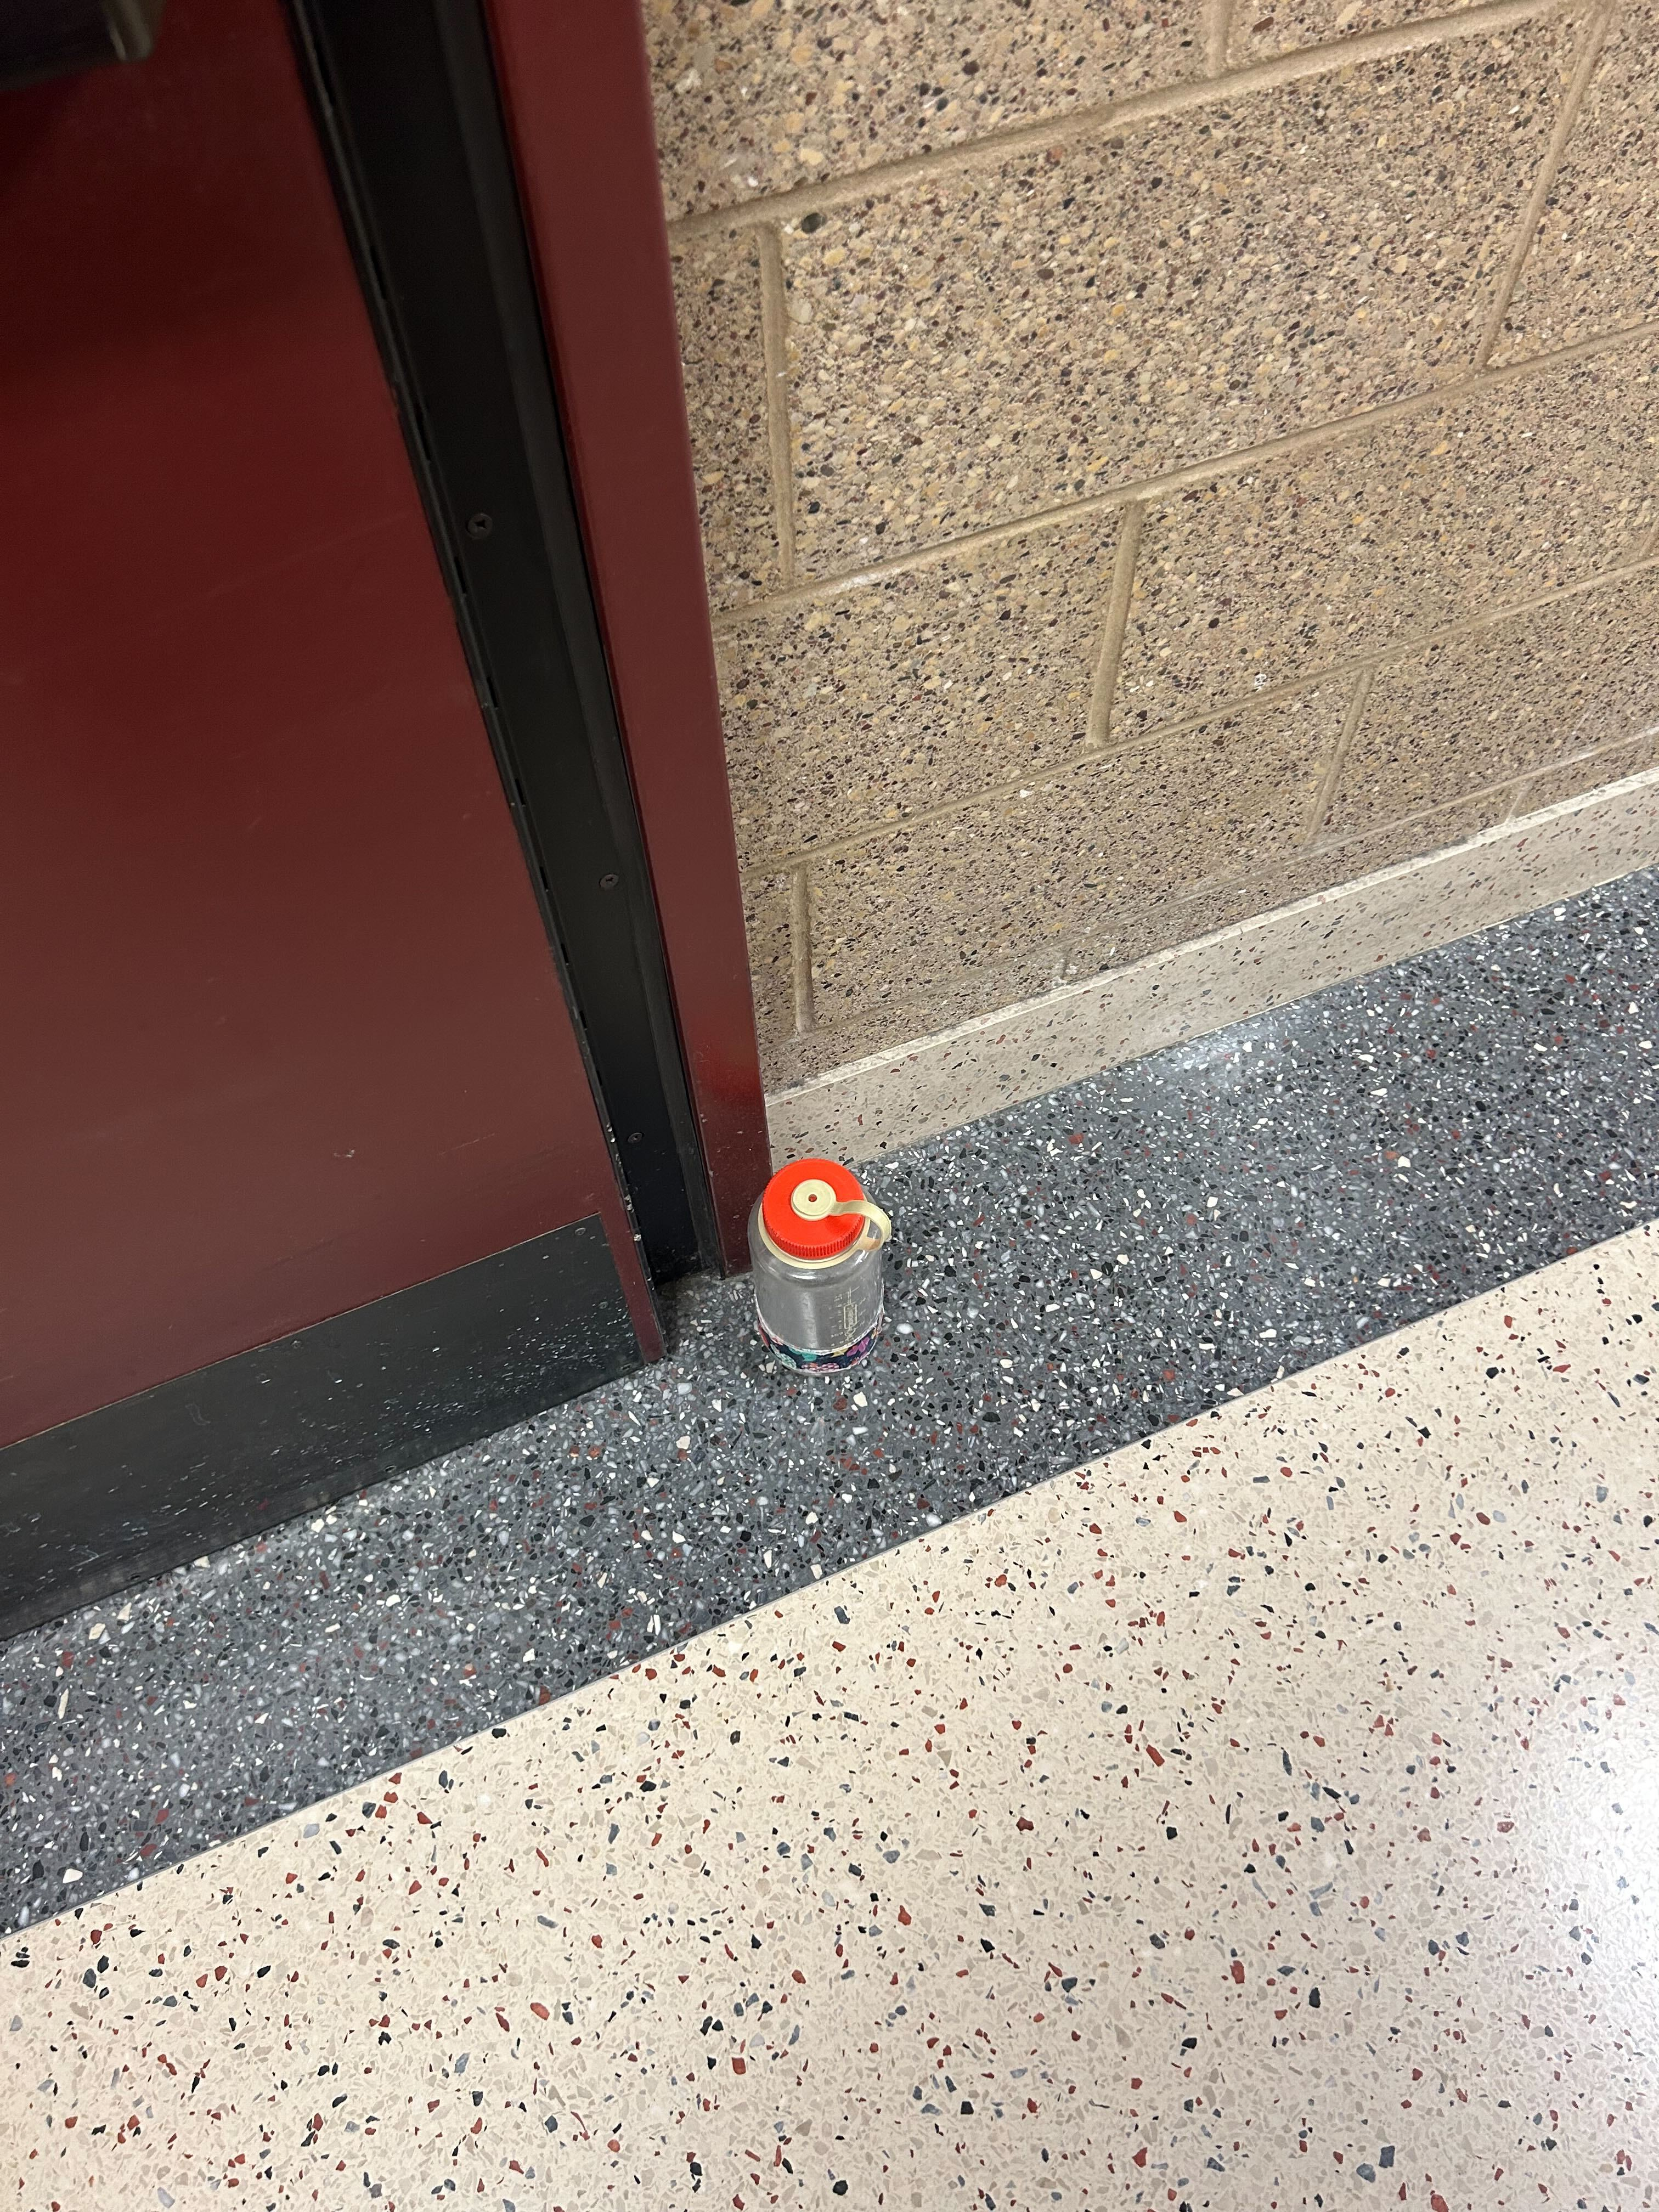bottle: (742, 1144, 896, 1376)
